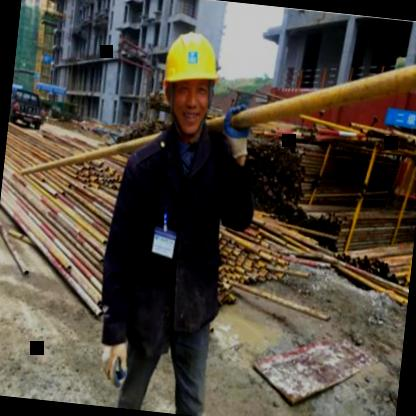helmet: (154, 20, 230, 144)
